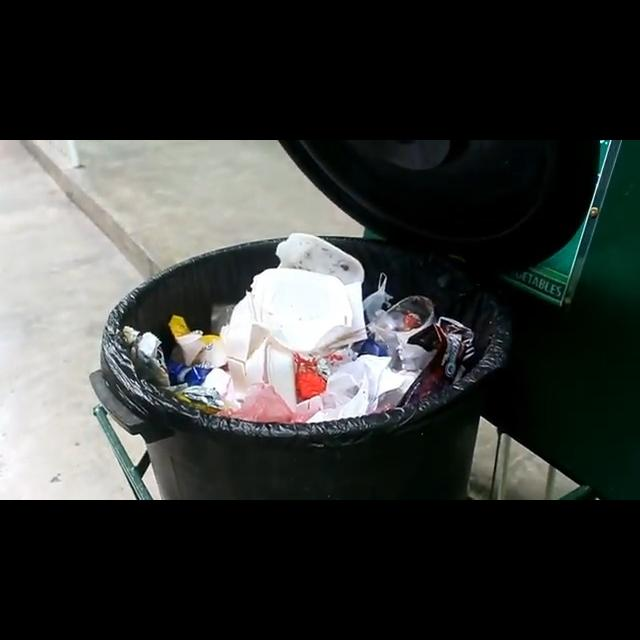paper: (210, 266, 374, 383), (309, 354, 400, 428)
plastic: (408, 324, 482, 409), (366, 285, 435, 351), (162, 296, 237, 356), (214, 385, 305, 427)
